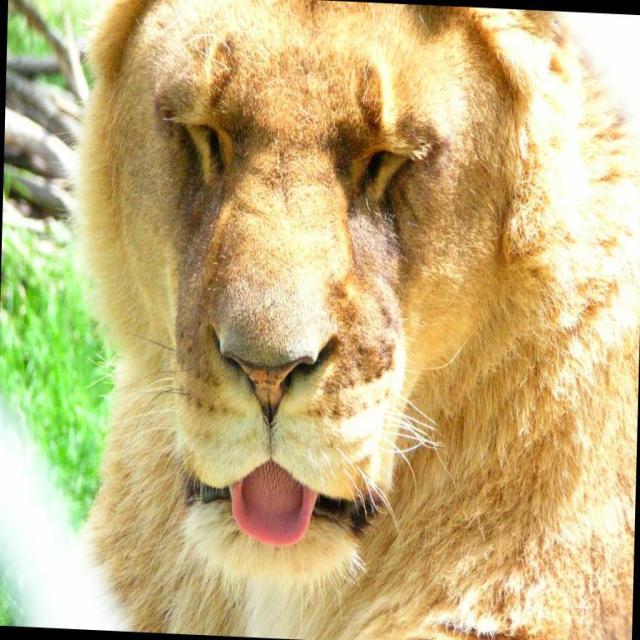Lion: (37, 0, 639, 639)
